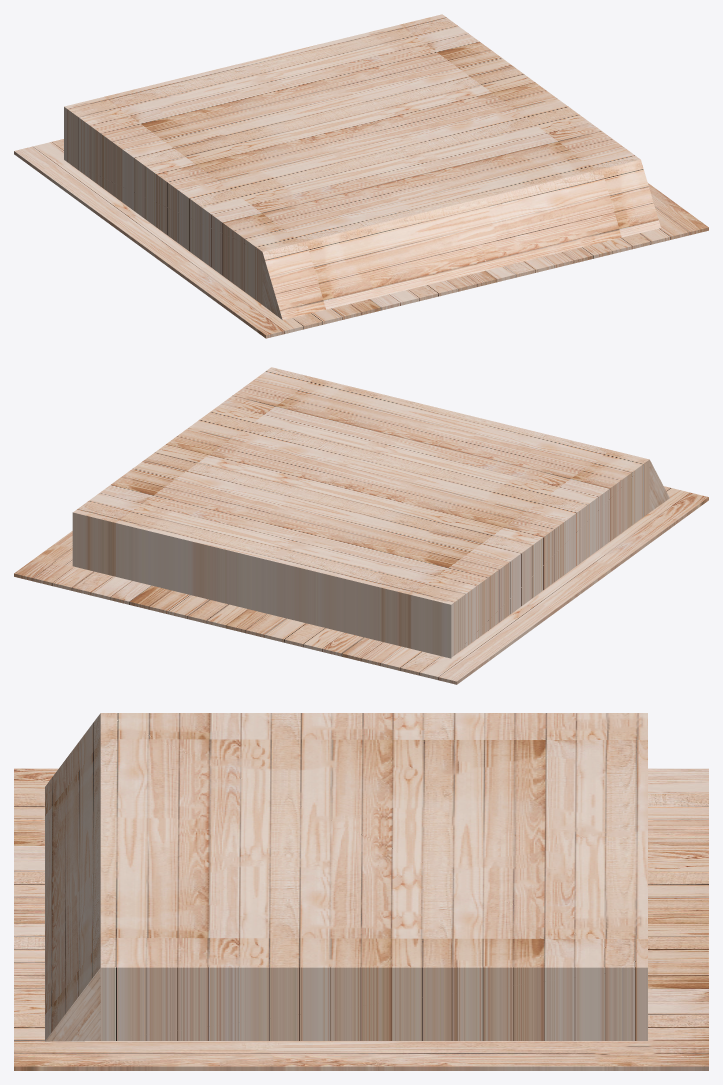
Rendered from cenario_tablado.gltf.
3 views of the same model, one above another, from view 1: azimuth 30°, elevation 25°; view 2: azimuth 150°, elevation 25°; view 3: azimuth 270°, elevation 25° (orthographic). The views are drawn at different scales.
Visible parts, largest first — view 1: Plane, Plane.001; view 2: Plane, Plane.001; view 3: Plane, Plane.001.
Boxes of the visible parts, <box> form: Plane: <box>64,14,660,320</box>; Plane.001: <box>14,139,708,338</box>; Plane: <box>72,367,669,658</box>; Plane.001: <box>14,486,708,684</box>; Plane: <box>45,713,647,1041</box>; Plane.001: <box>14,768,708,1070</box>.
Bounding box in the file's own units: 2.94 × 0.3614 × 2.89.
Materials: 2 (2 with a texture image).
